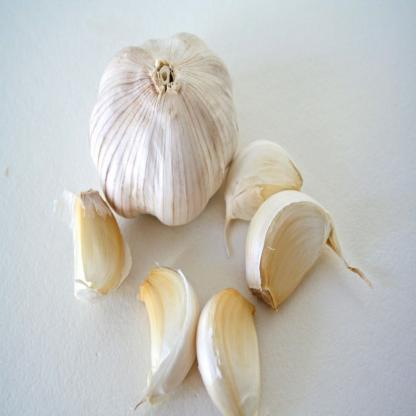--: (88, 9, 240, 230), (242, 178, 346, 316), (188, 262, 270, 416), (134, 243, 198, 400), (57, 180, 130, 301)
